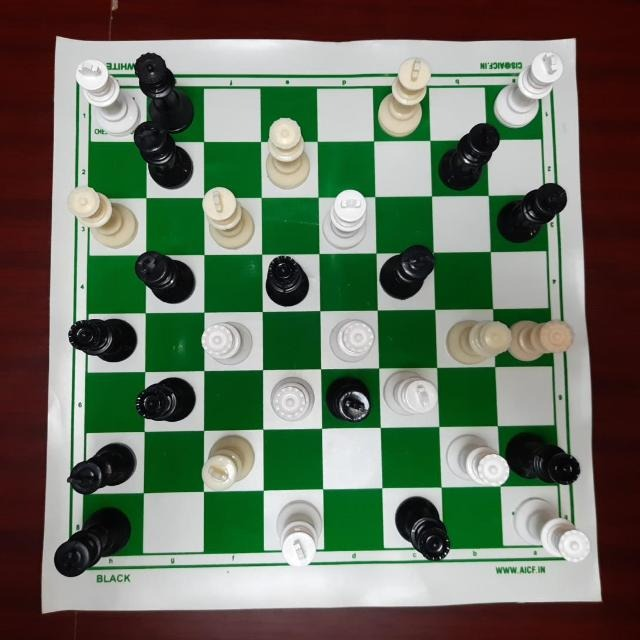black-king: (52, 503, 136, 579), (432, 120, 506, 194), (496, 177, 570, 245), (130, 116, 197, 191), (63, 435, 138, 497), (131, 248, 201, 310), (376, 242, 437, 306), (325, 372, 376, 429)
black-queen: (125, 52, 203, 137), (389, 491, 461, 570), (68, 313, 144, 371), (129, 373, 201, 433), (509, 435, 581, 493), (261, 255, 326, 311)
white-king: (69, 54, 140, 132), (497, 48, 565, 125), (373, 54, 434, 138), (270, 492, 327, 578), (197, 183, 261, 255), (376, 366, 445, 425), (199, 433, 264, 495), (319, 189, 373, 253)
white-queen: (510, 495, 593, 569), (63, 186, 145, 250), (259, 116, 317, 194), (441, 310, 517, 365), (443, 430, 509, 491), (198, 314, 265, 372), (508, 314, 580, 366), (324, 312, 378, 368), (267, 375, 323, 425)
